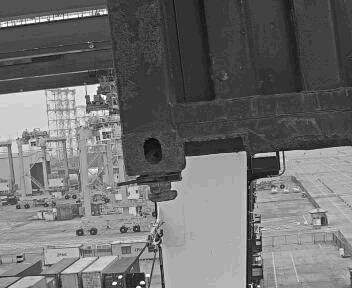twist_lock_1: (146, 161, 205, 206)
